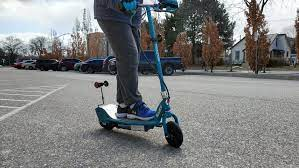scooter: (94, 1, 187, 151)
